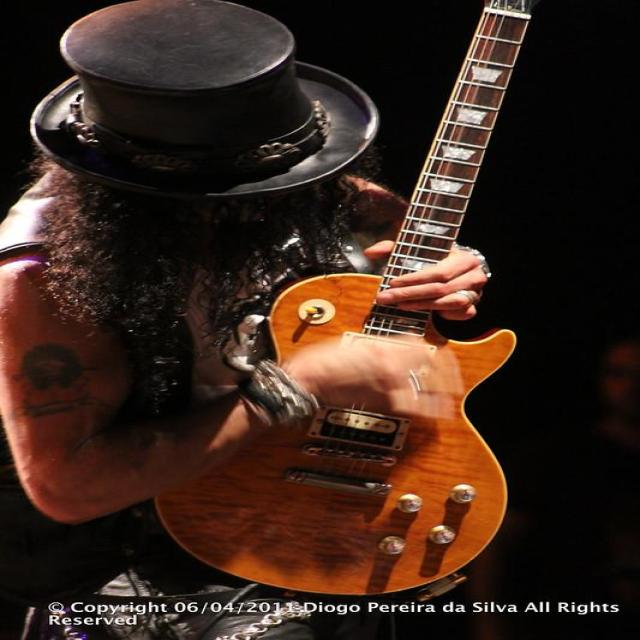guitar: (157, 0, 531, 595)
